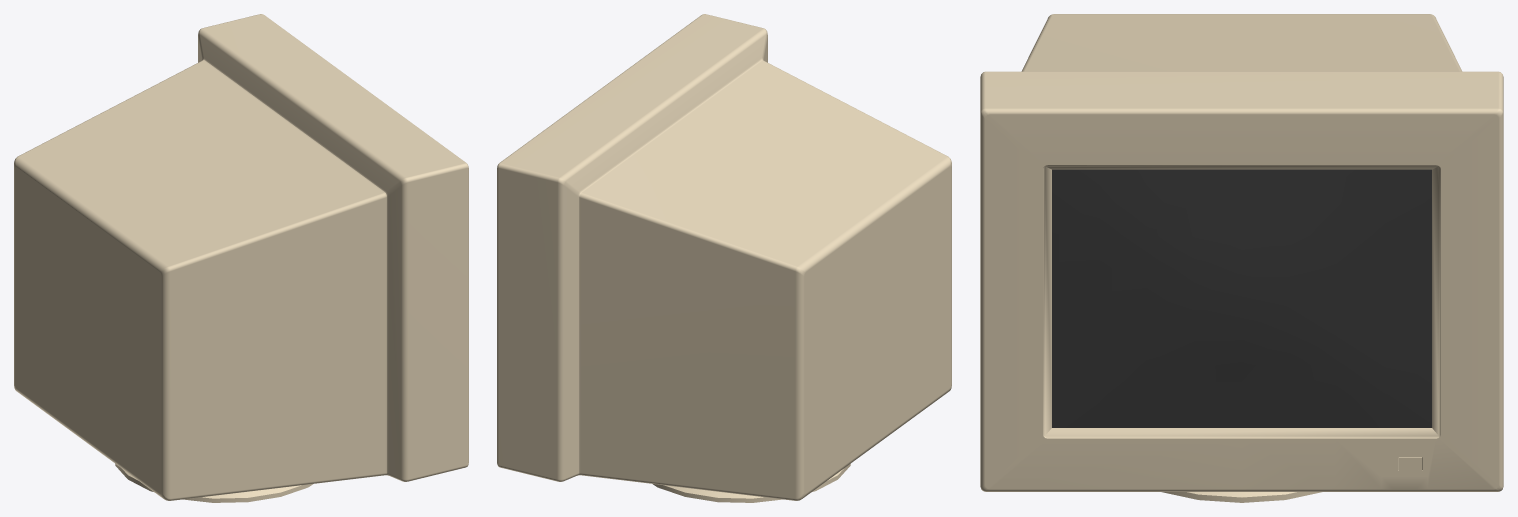
File: CRT_DSPLAY.fbx
3 renders of one model, left to right at view 1: azimuth 30°, elevation 25°; view 2: azimuth 150°, elevation 25°; view 3: azimuth 270°, elevation 25°, orthographic. The views are drawn at different scales.
Visible parts, largest first — view 1: pCylinder2; view 2: pCylinder2; view 3: pCylinder2.
Part boxes in pixels (bbox=[...]): pCylinder2: bbox=[14, 14, 468, 502]; pCylinder2: bbox=[497, 14, 951, 502]; pCylinder2: bbox=[980, 14, 1503, 502].
Bounding box in the file's own units: 0.3445 × 0.3934 × 0.4438.
Materials: 1 (1 with a texture image).
